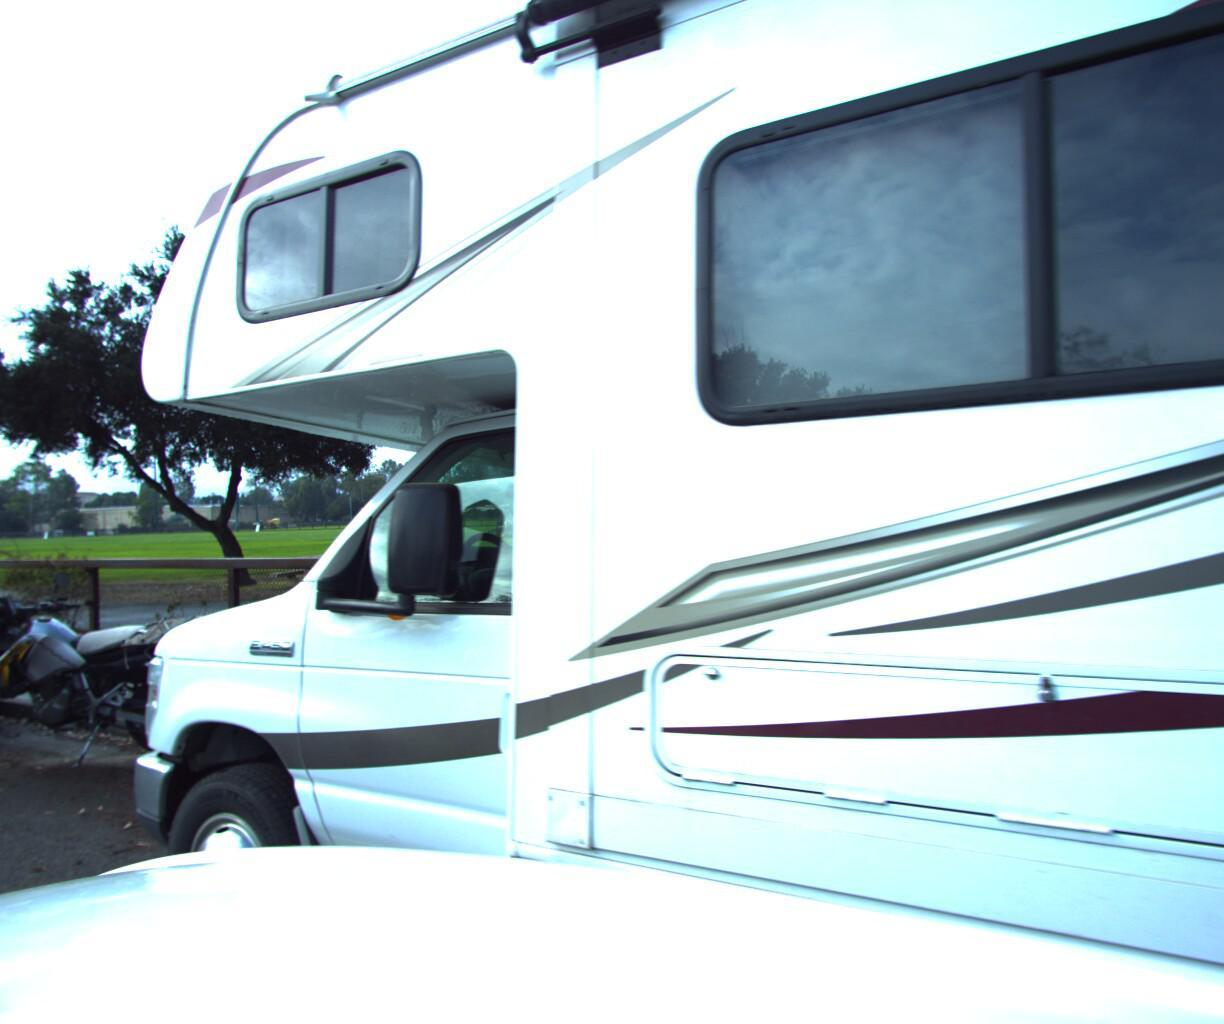car: (0, 532, 41, 754)
motorcycle: (0, 539, 262, 770)
